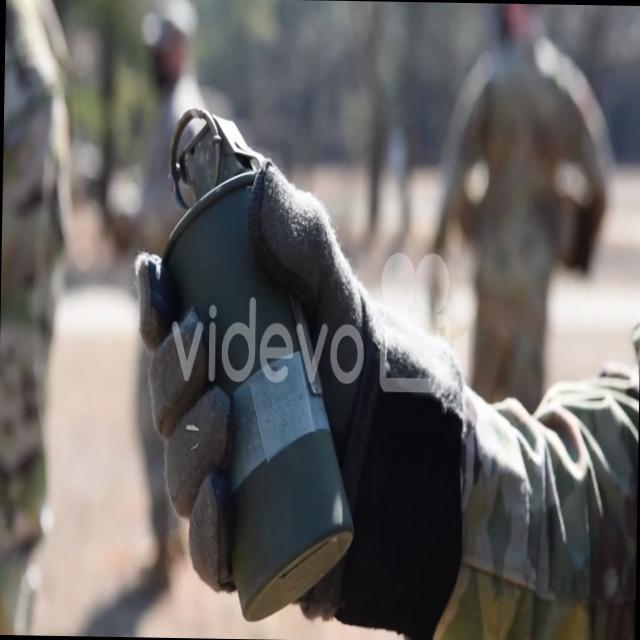grenade: (152, 110, 362, 623)
